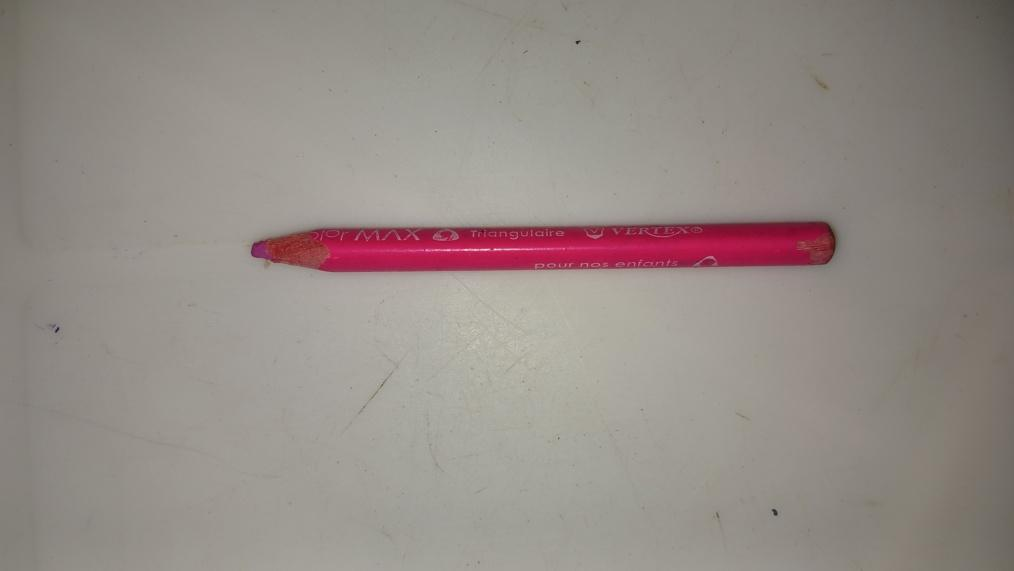Pencil: (249, 221, 838, 270)
